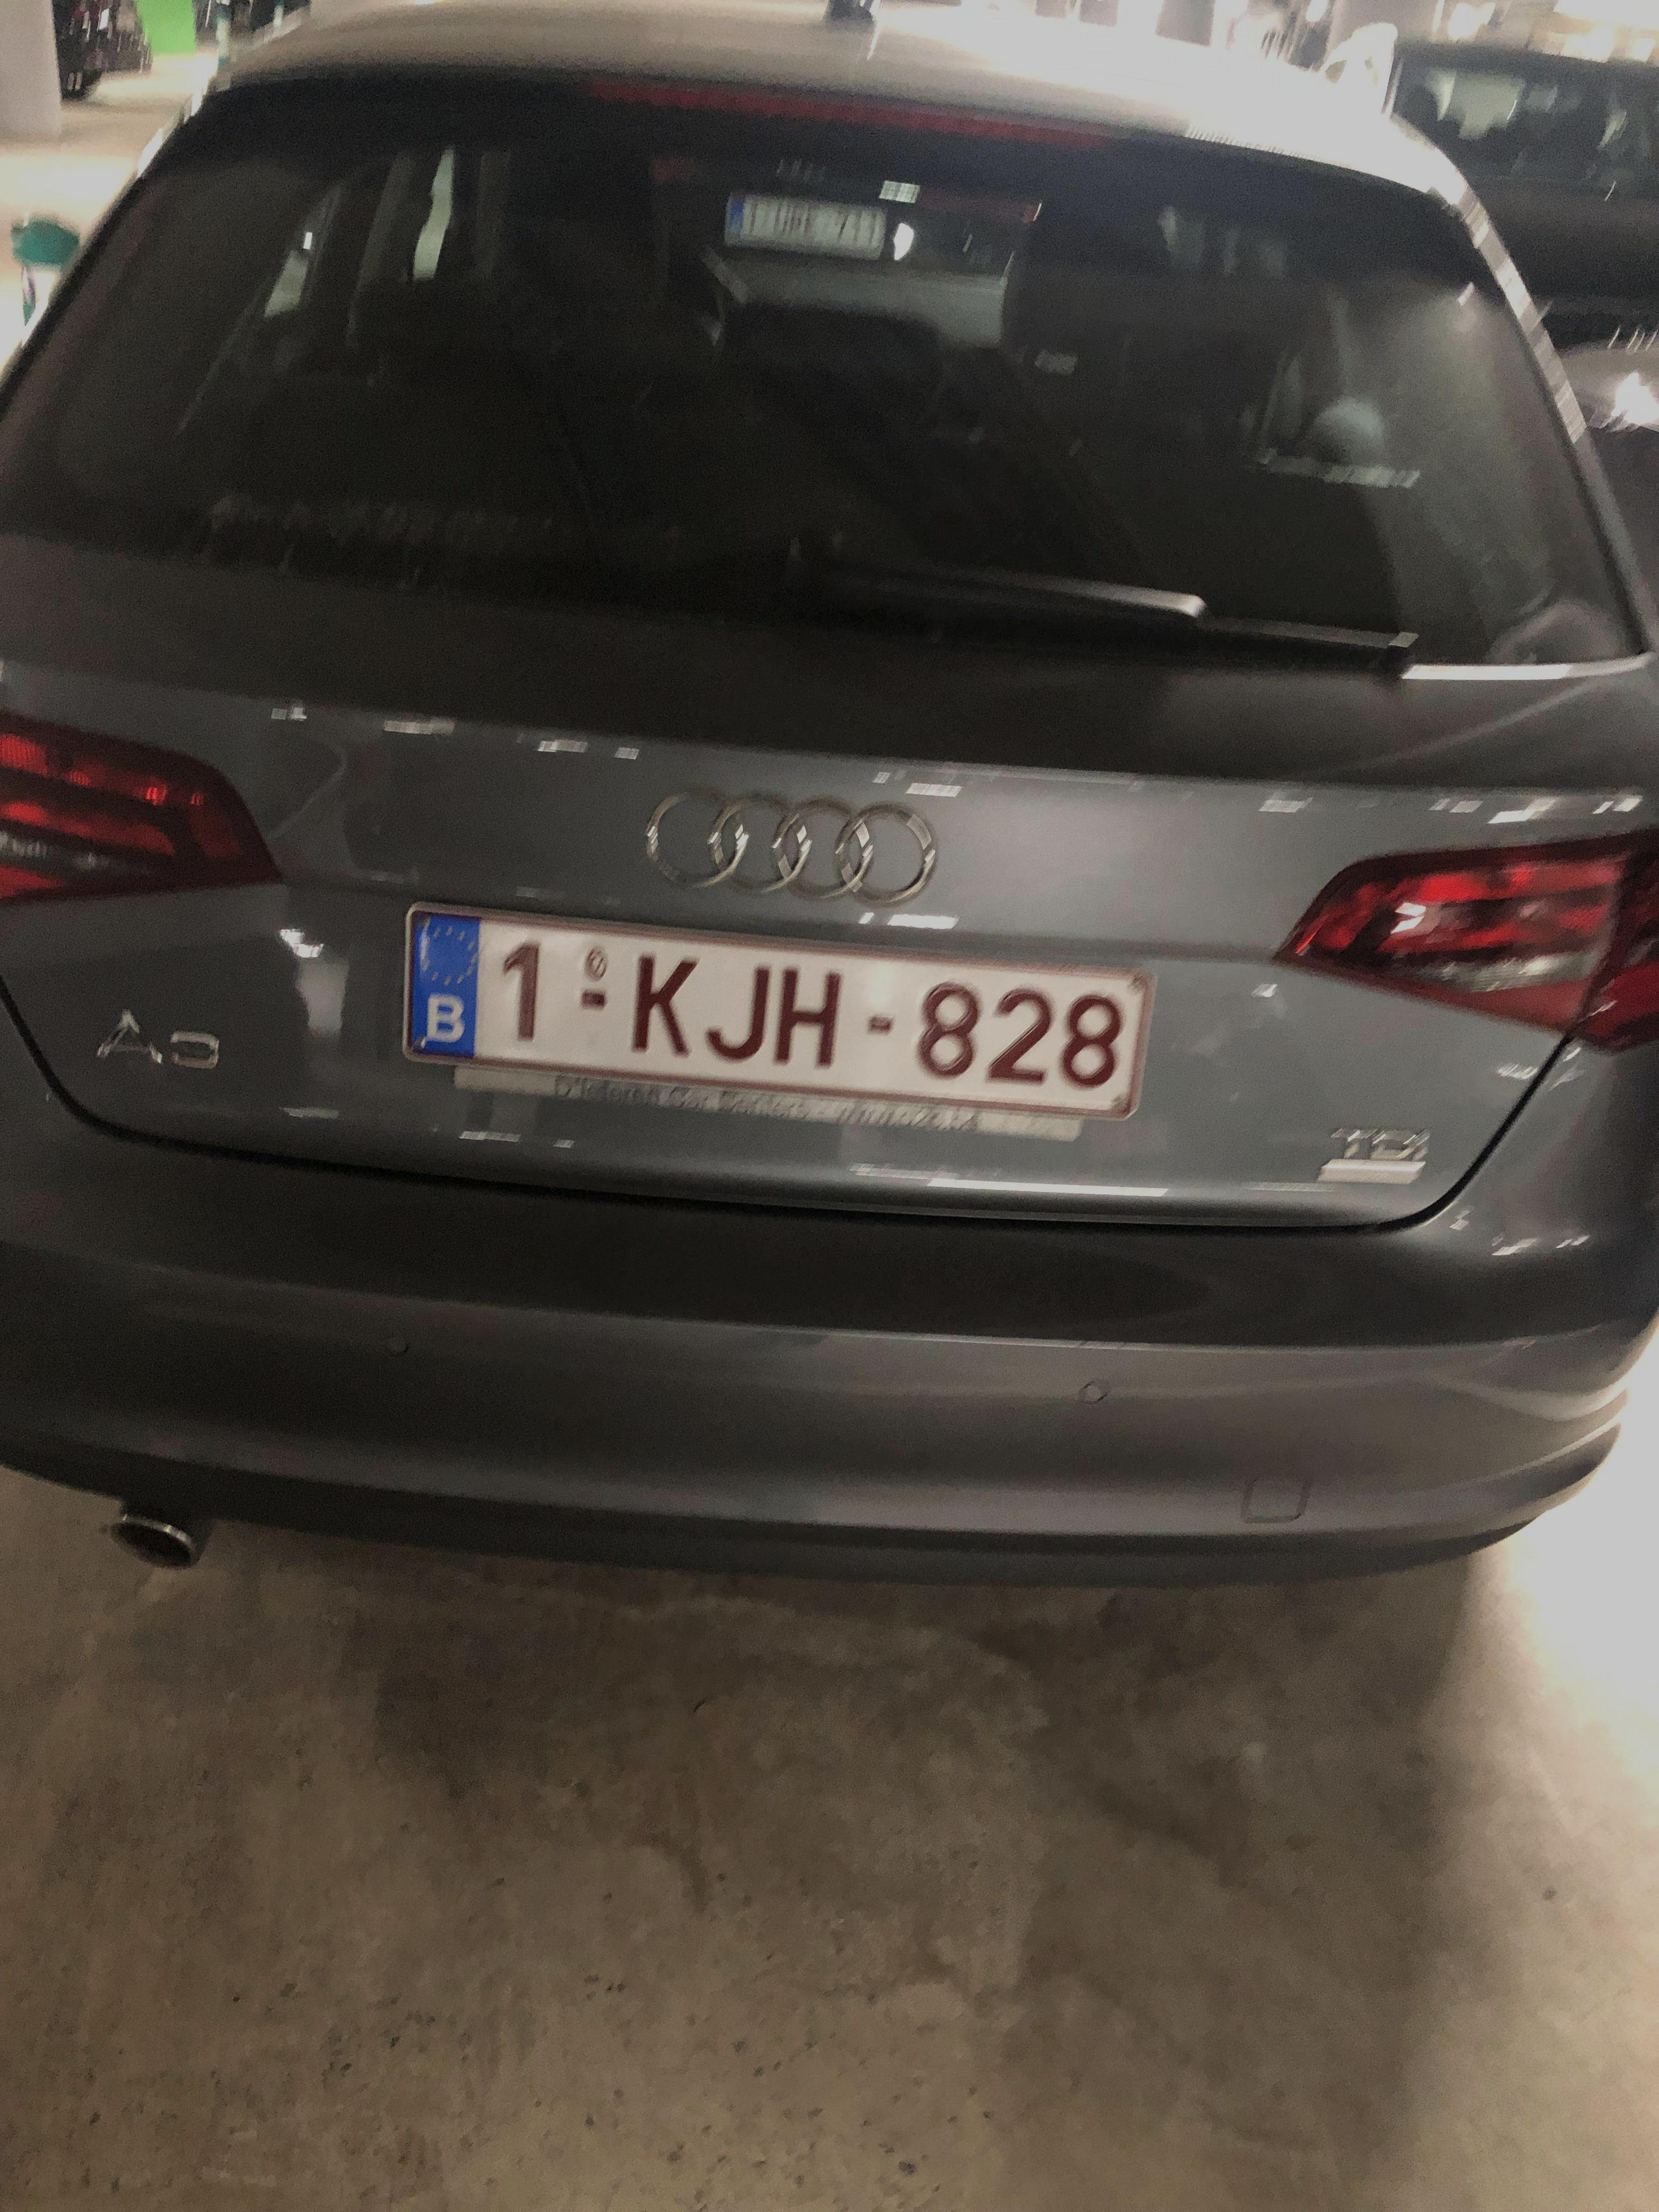plate: (386, 883, 1159, 1132)
